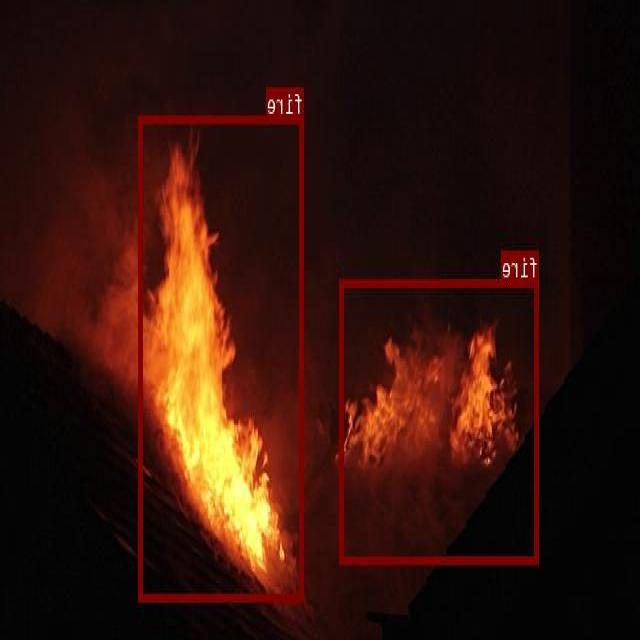fire: (140, 114, 305, 600), (341, 278, 540, 563)
